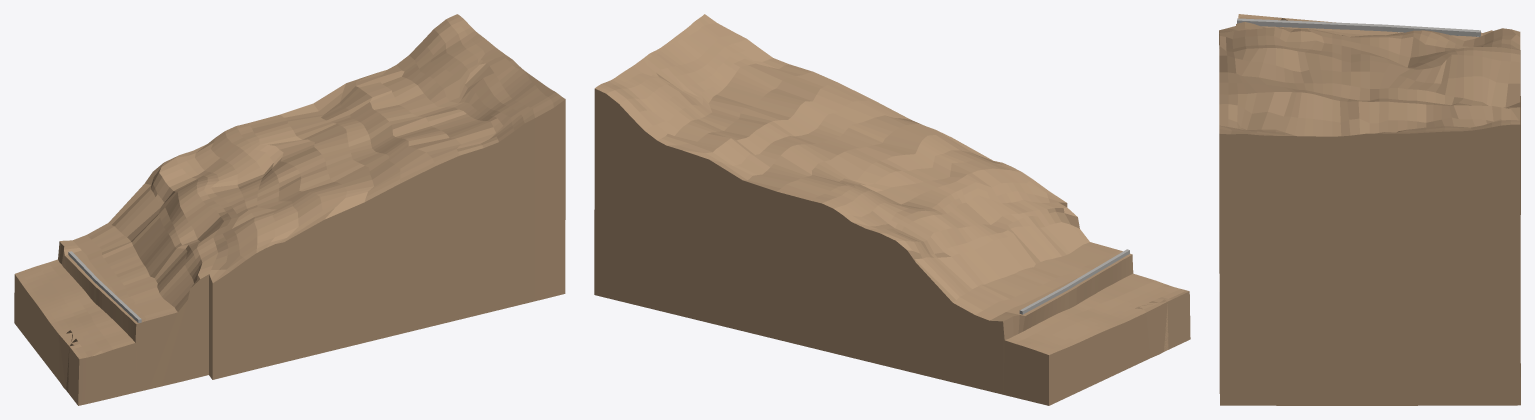
File: cb3_spw6.glb
3 renders of one model, left to right at view 1: azimuth 30°, elevation 25°; view 2: azimuth 150°, elevation 25°; view 3: azimuth 270°, elevation 25°, orthographic. The views are drawn at different scales.
Visible parts, largest first — view 1: Terrain 01 - NGL.004, Cube.165; view 2: Terrain 01 - NGL.004, Cube.165; view 3: Terrain 01 - NGL.004, Cube.165.
Boxes of the visible parts, box(x1,y1,x2,y2) form: Terrain 01 - NGL.004: box(14, 14, 565, 405); Cube.165: box(68, 251, 141, 322); Terrain 01 - NGL.004: box(594, 14, 1190, 405); Cube.165: box(1019, 249, 1129, 314); Terrain 01 - NGL.004: box(1219, 14, 1520, 405); Cube.165: box(1237, 18, 1480, 36).
Bounding box in the file's own units: 45.8 × 18.31 × 17.83.
